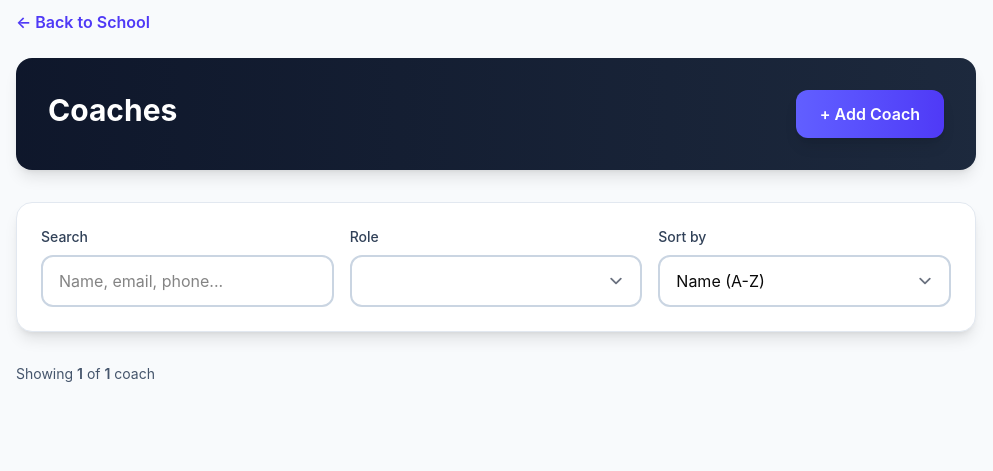
Test: pages/schools/[id]/coaches.vue › Clear Filters › should reset all filters when clicked
Set filters
Type "John" into the field with id "search" at point(187, 281), box x1=41 y1=255 x2=334 y2=307
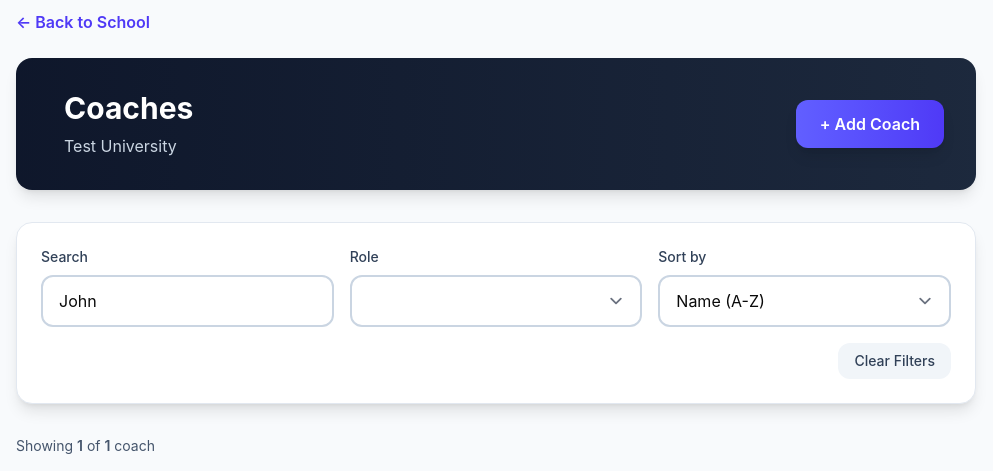
Select "Head Coach" in the dropdown with id "roleFilter" at point(496, 301), box x1=350 y1=275 x2=642 y2=327
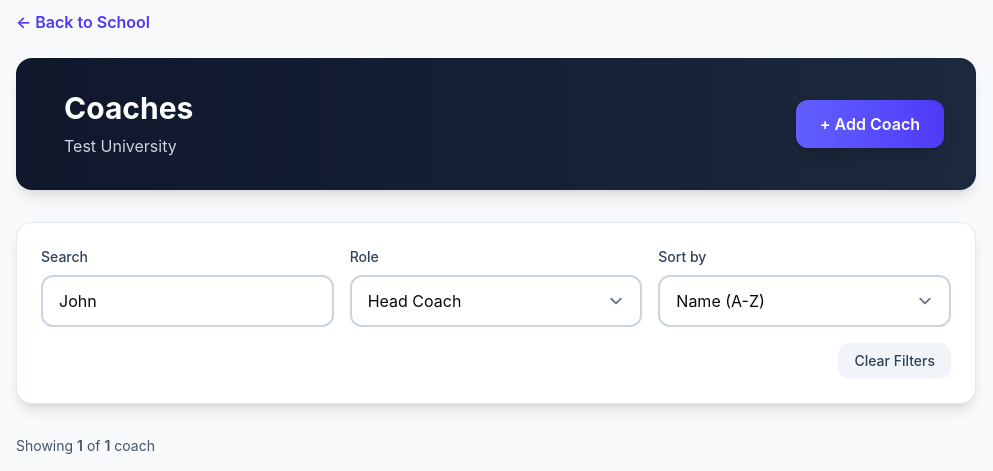
Select "Last Contact (Recent)" in the dropdown with id "sortFilter" at point(805, 301), box x1=658 y1=275 x2=951 y2=327
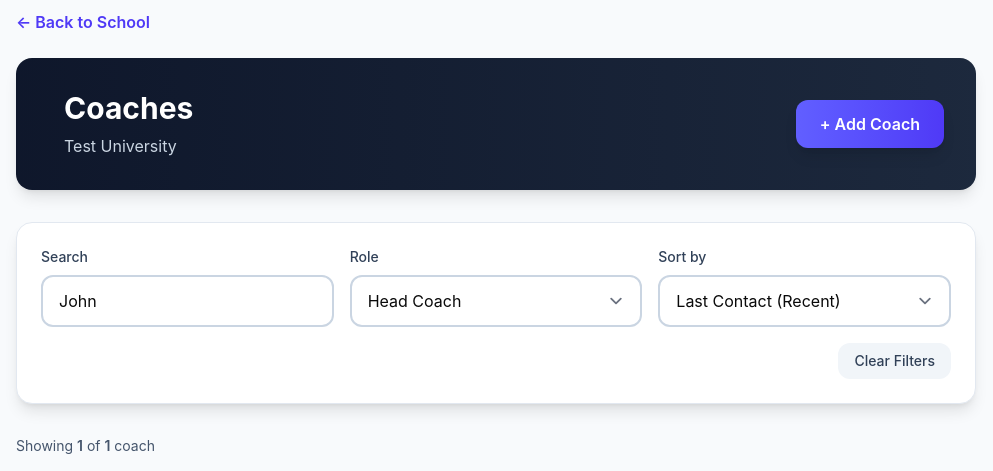
Click the button "Clear Filters" at point(895, 361), box x1=838 y1=343 x2=951 y2=379
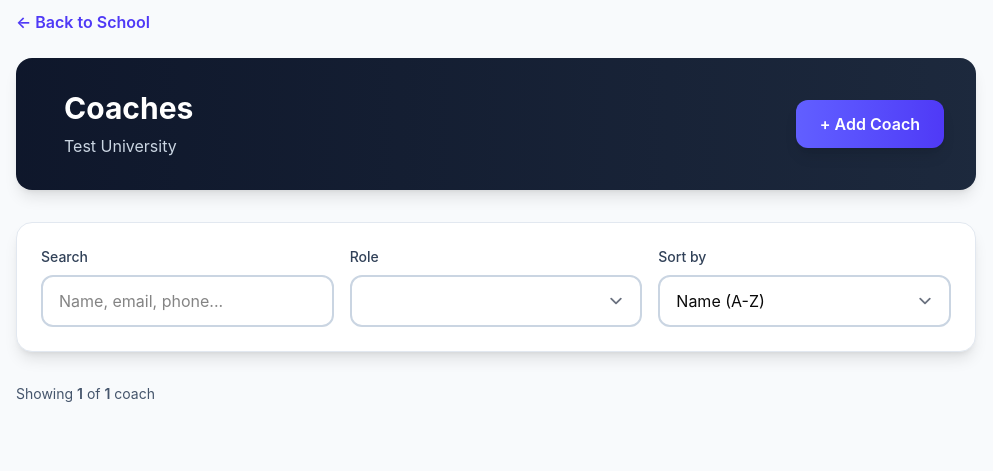
Check: the field with id "search" is empty, box x1=41 y1=275 x2=334 y2=327
